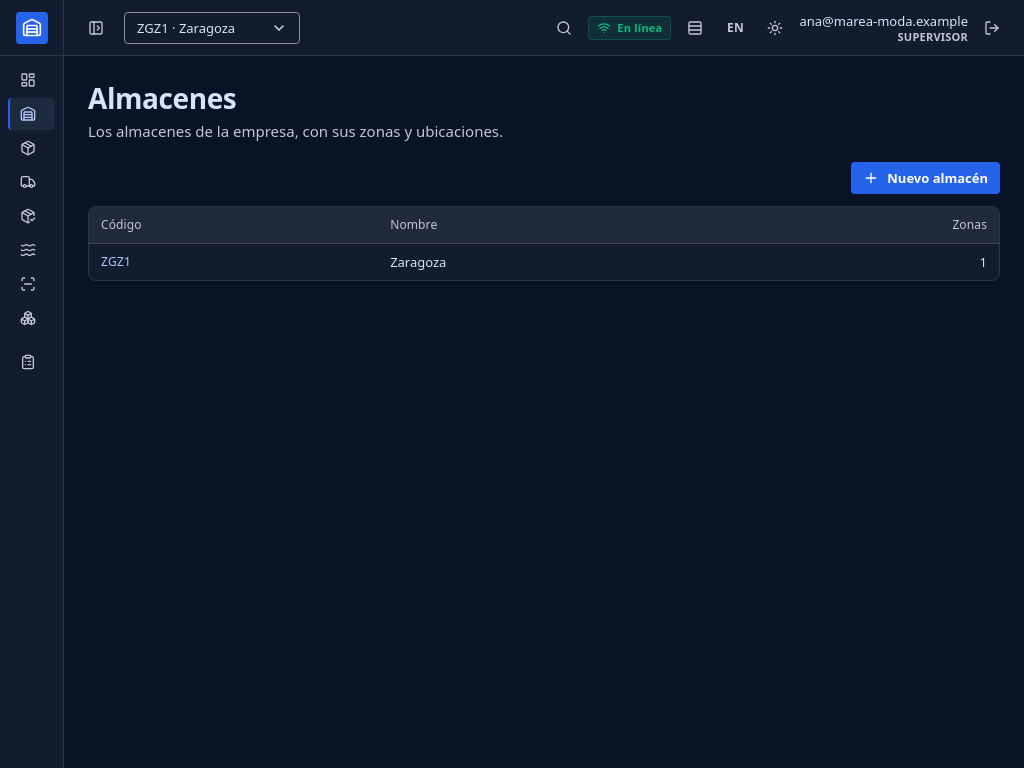
Scenario: the warehouses › checks the form, shows what the API says if it refuses, and saves once it accepts
Click the button "Nuevo almacén": {"x": 926, "y": 178} [851, 162, 1000, 194]
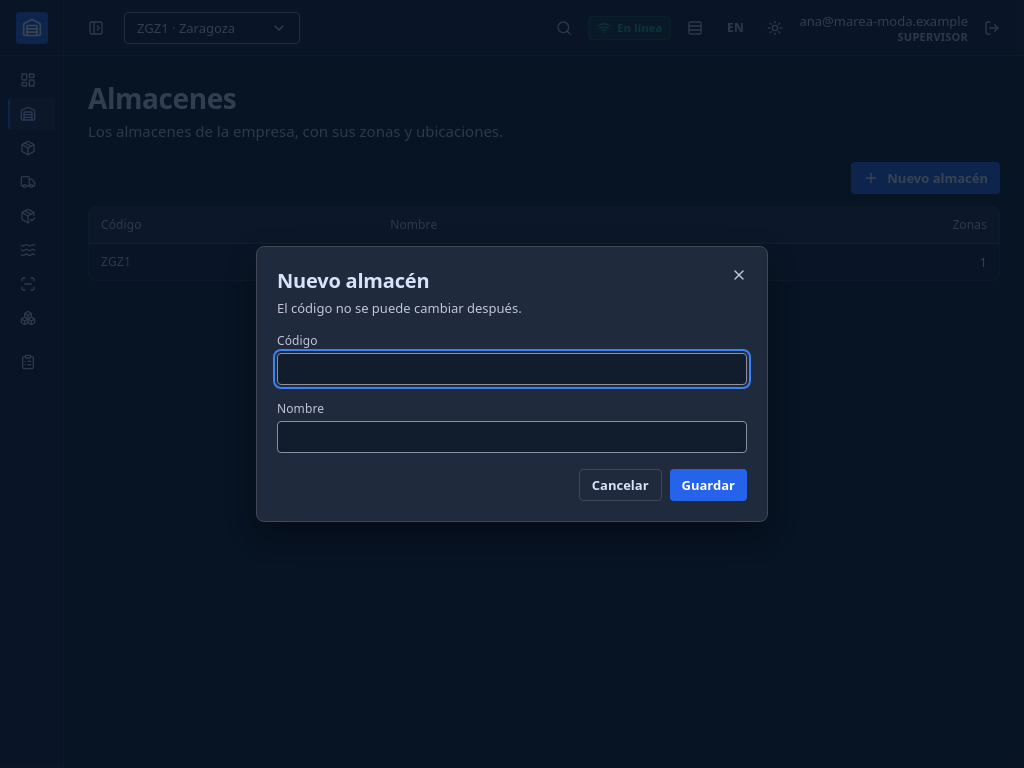
In the field labelled "Código": {"x": 512, "y": 369} [277, 353, 747, 385], type "z"
Click the button "Guardar": {"x": 708, "y": 485} [670, 469, 747, 501]
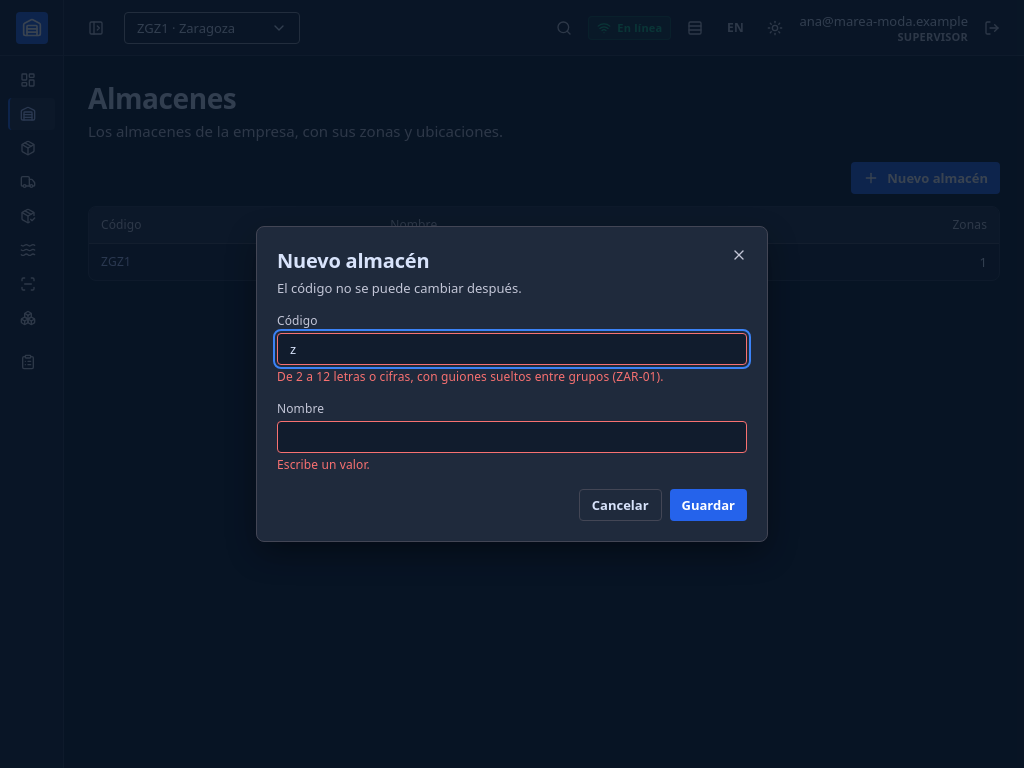
expect the text "De 2 a 12 letras o cifras" is shown: met, box [277, 368, 664, 385]
expect the text "Escribe un valor." is shown: met, box [277, 456, 370, 473]
Replace the text in the field labelled "Código" with "zgz-1": {"x": 512, "y": 349} [277, 333, 747, 365]
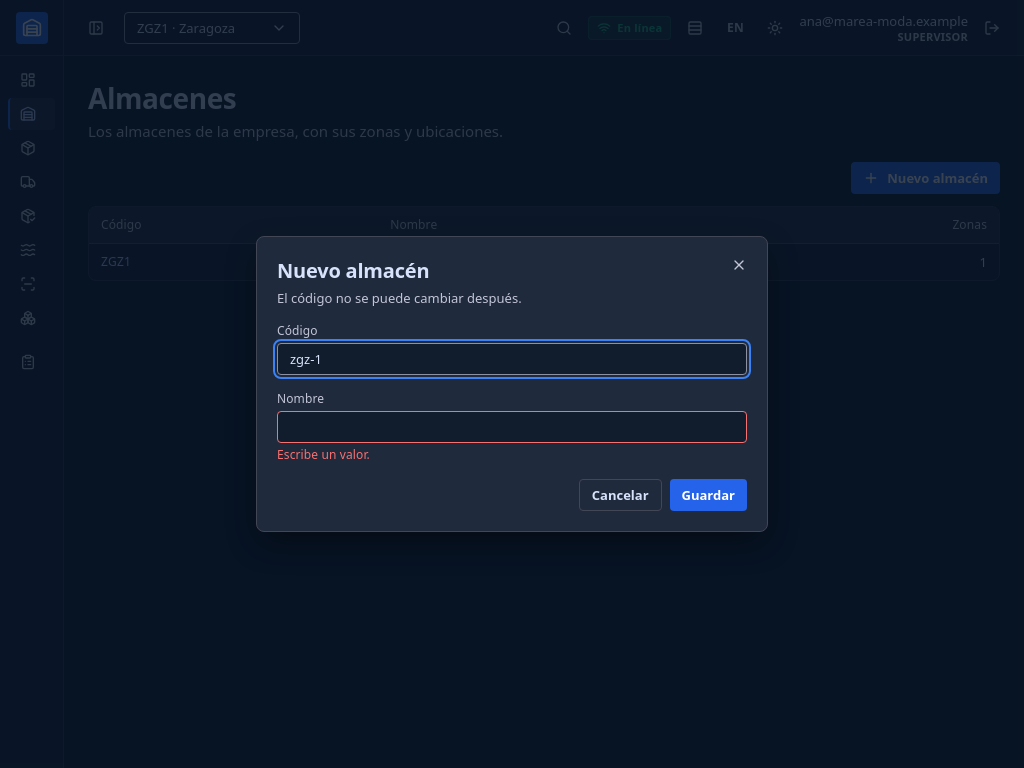
In the field labelled "Nombre": {"x": 512, "y": 427} [277, 411, 747, 443], type "Zaragoza"
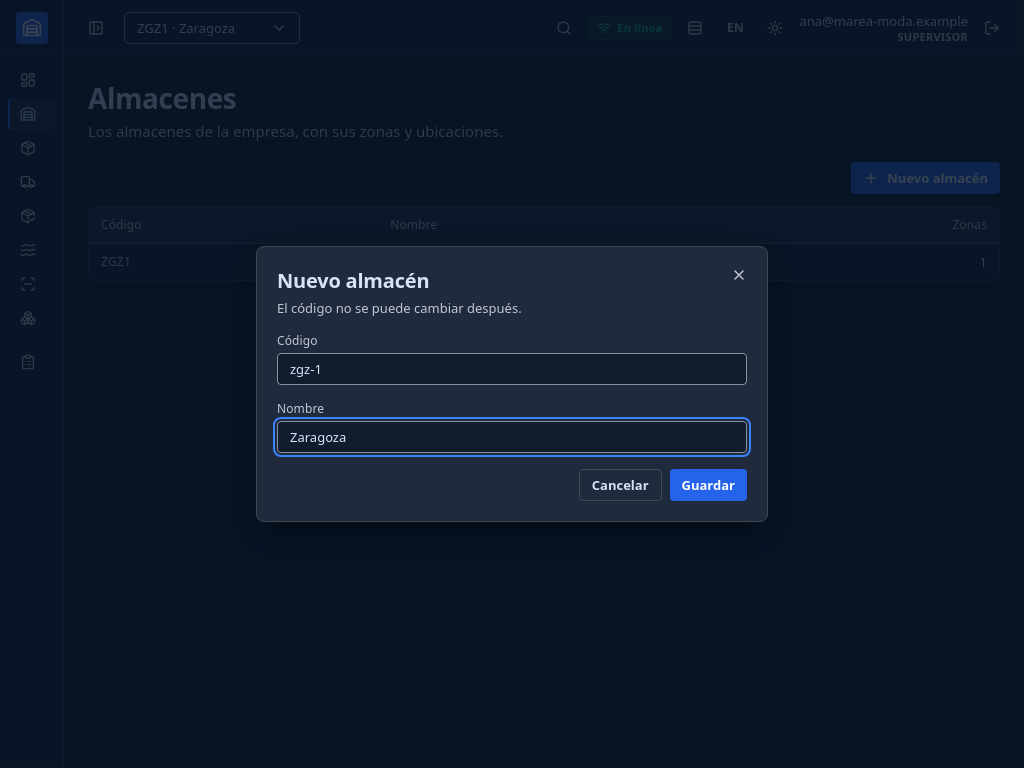
Click the button "Guardar": {"x": 708, "y": 485} [670, 469, 747, 501]
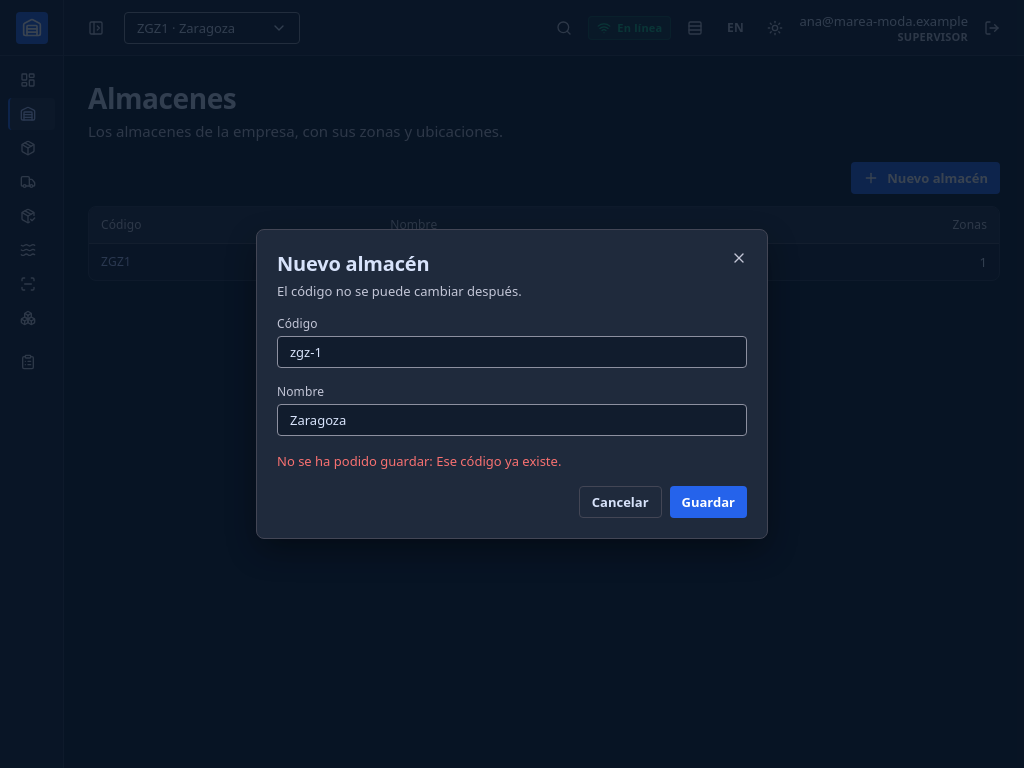
expect the message reads "No se ha podido guardar: Ese código ya existe.": met, box [277, 452, 561, 470]
Click the button "Guardar": {"x": 708, "y": 502} [670, 486, 747, 518]
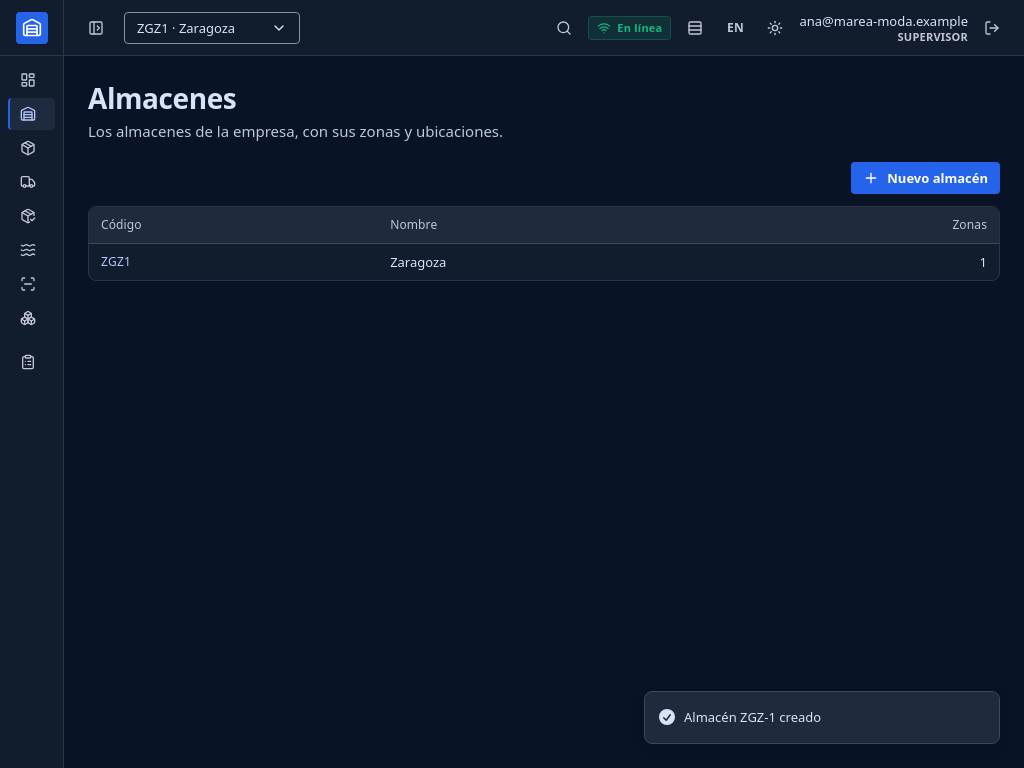
expect the dialog is gone: met
